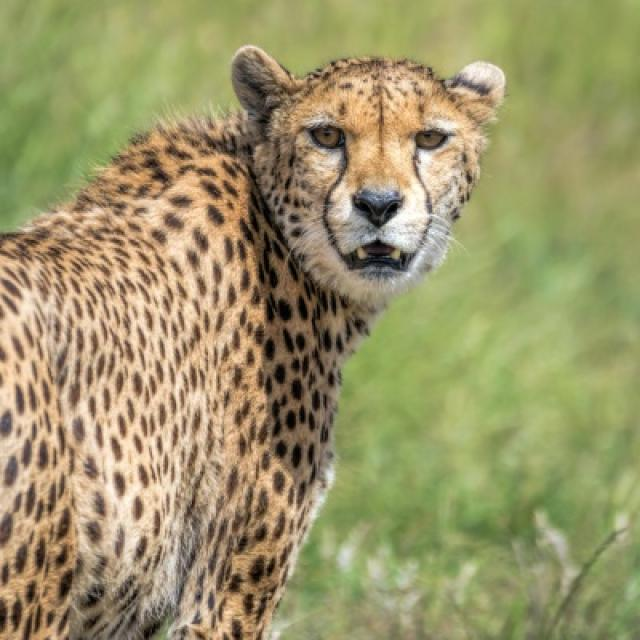Cheetah: (0, 45, 507, 638)
